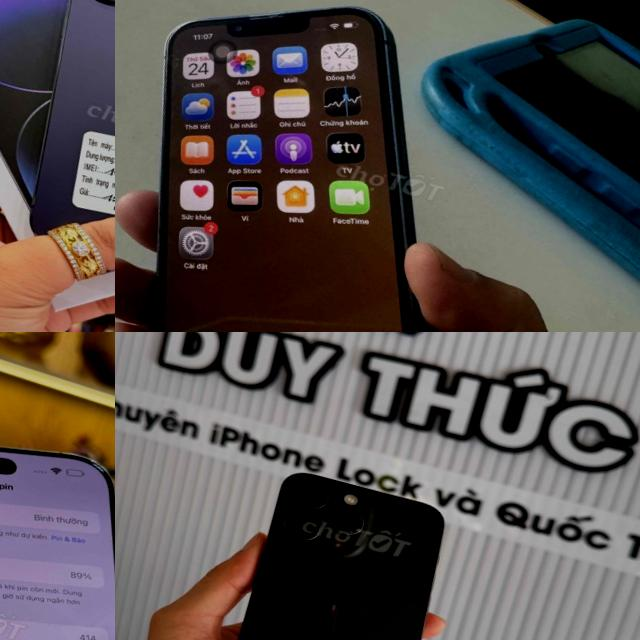gen_12_13: (115, 0, 534, 332)
gen_14: (0, 0, 115, 307)
gen_15: (188, 449, 489, 640)
gen_16: (0, 383, 115, 640)
